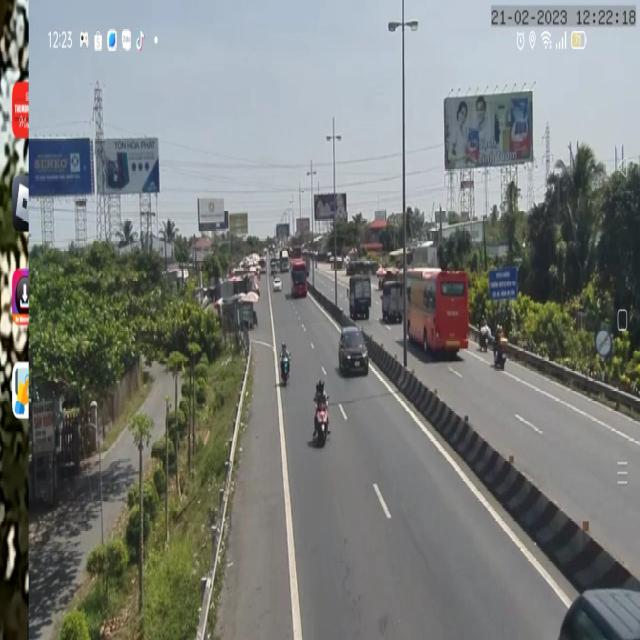bus: (404, 270, 468, 360), (288, 254, 307, 298)
car: (338, 325, 370, 378)
motorbike: (313, 381, 331, 446), (491, 321, 508, 371), (479, 316, 490, 357), (280, 345, 290, 385)
truck: (380, 276, 405, 325), (348, 271, 372, 320)
